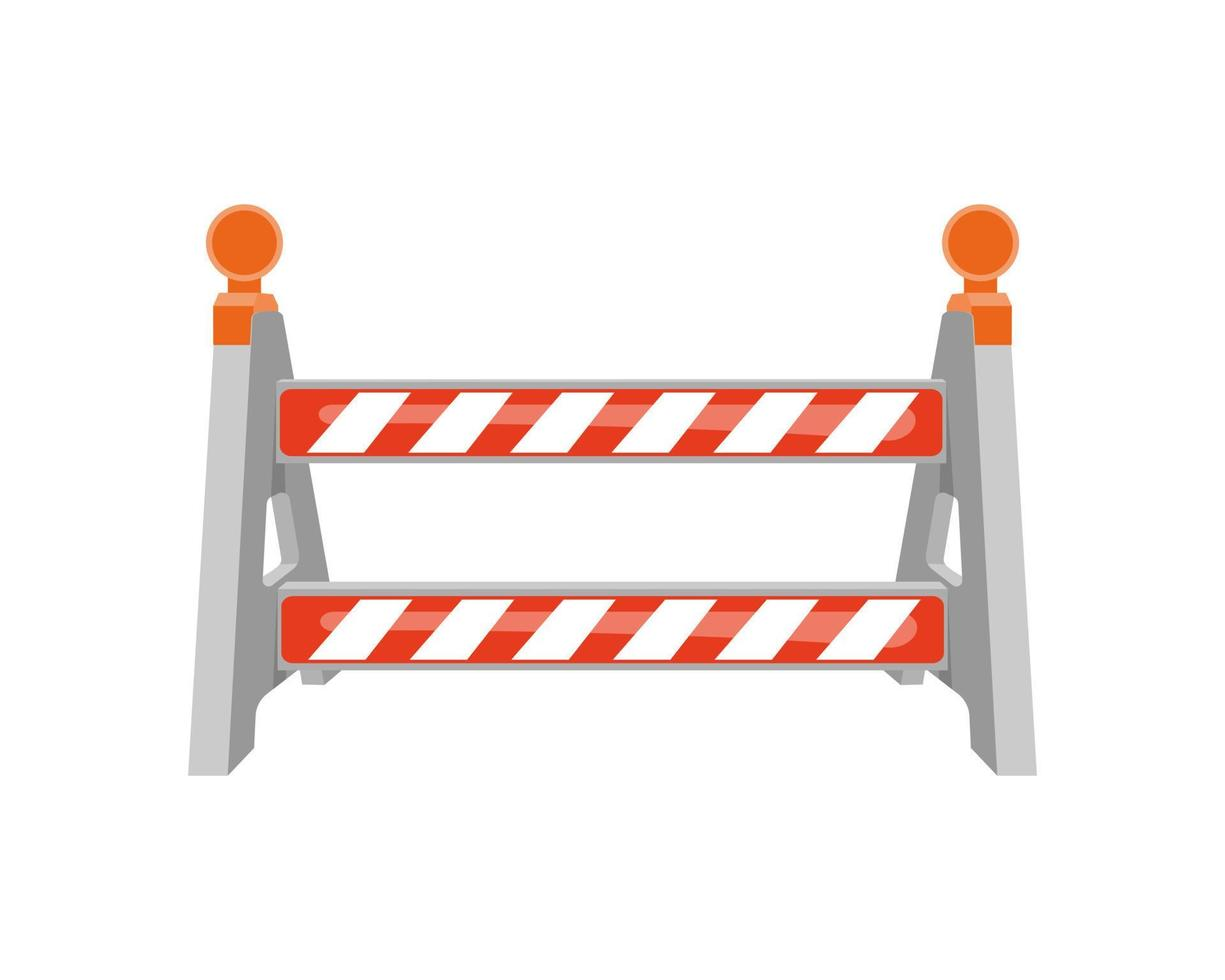Barrier: (164, 182, 1078, 804)
